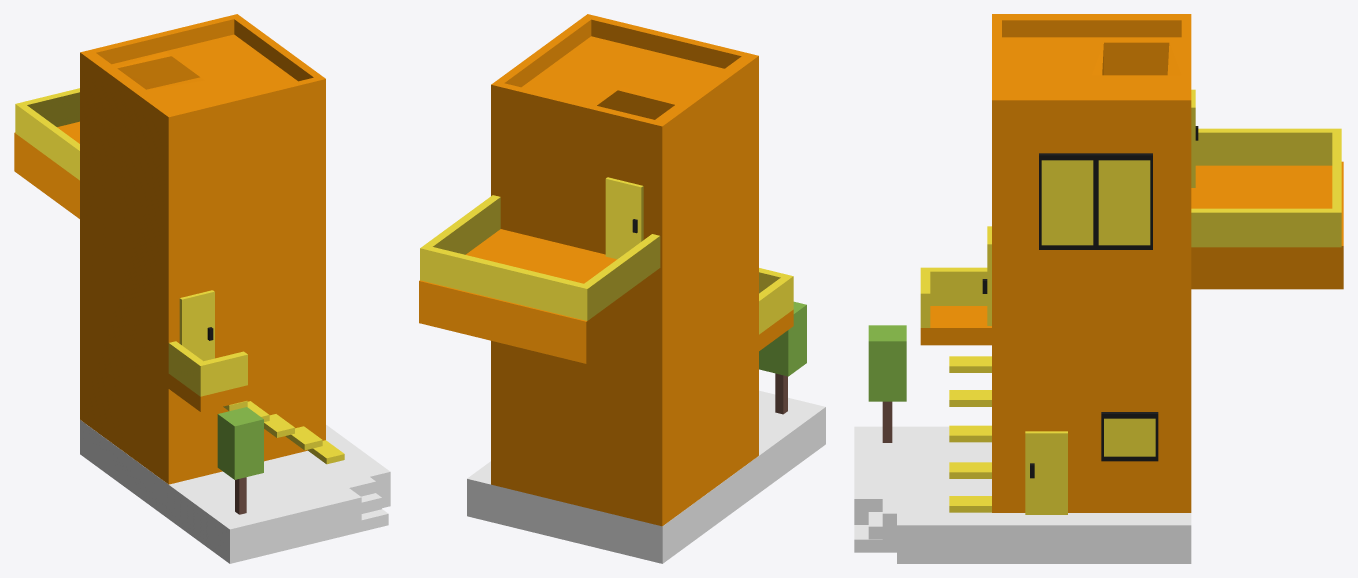
The model's file is Home 1.fbx.
3 renders of one model, left to right at view 1: azimuth 30°, elevation 25°; view 2: azimuth 150°, elevation 25°; view 3: azimuth 270°, elevation 25°, orthographic. The views are drawn at different scales.
Parts seen in each view (by area): view 1: Home; view 2: Home; view 3: Home.
Boxes of the visible parts, left/top/right/bottom form: Home: left=14, top=14, right=390, bottom=563; Home: left=419, top=14, right=825, bottom=563; Home: left=854, top=14, right=1343, bottom=563.
Bounding box in the file's own units: 9.9 × 21.16 × 20.78.
